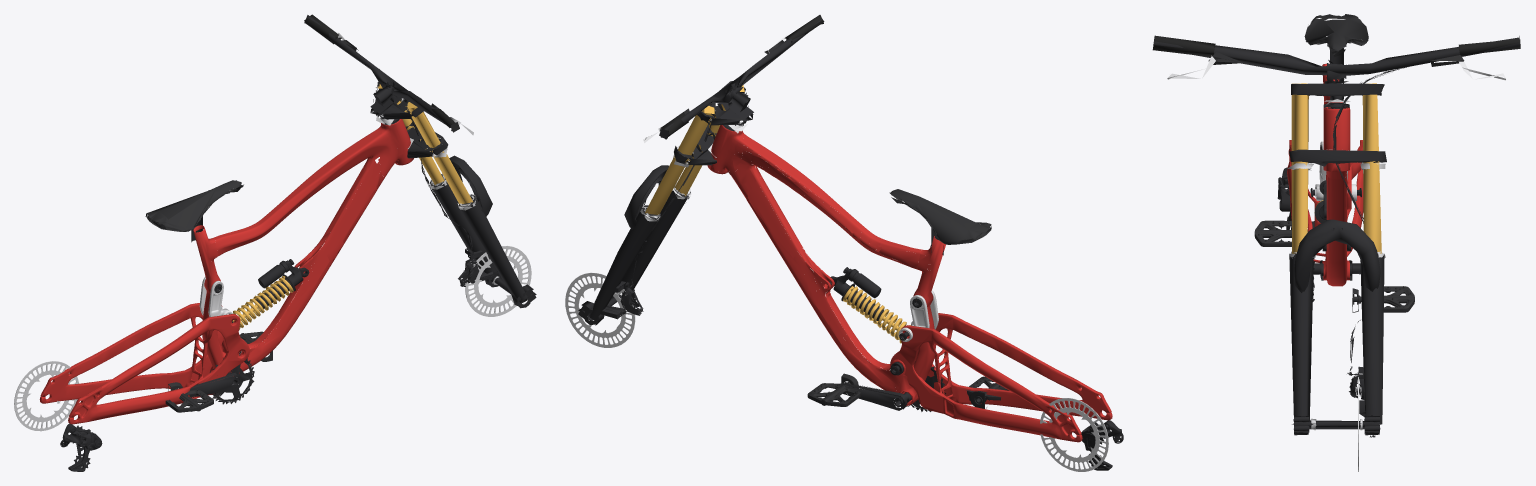
File: dhframe.glb
The picture shows the model from 3 angles, left to right: view 1: azimuth 30°, elevation 25°; view 2: azimuth 150°, elevation 25°; view 3: azimuth 270°, elevation 25°; orthographic projection. The views are drawn at different scales.
Visible parts, largest first — view 1: frame, seatstay, steer, fork_lower, crank, wheel_rear, wheel_front, shock_spring, shock_body; view 2: frame, seatstay, steer, fork_lower, crank, wheel_rear, wheel_front, shock_spring, shock_body; view 3: steer, fork_lower, frame, crank, seatstay.
Part boxes in pixels (box(x1,y1,x2,y2)): frame: box(145, 117, 413, 376); seatstay: box(39, 303, 249, 471); steer: box(304, 14, 473, 254); fork_lower: box(428, 155, 536, 308); crank: box(165, 331, 272, 412); wheel_rear: box(14, 361, 78, 431); wheel_front: box(465, 245, 531, 316); shock_spring: box(232, 276, 293, 330); shock_body: box(256, 259, 309, 308); frame: box(707, 122, 991, 406); seatstay: box(890, 313, 1123, 470); steer: box(633, 15, 824, 275); fork_lower: box(578, 165, 691, 325); crank: box(807, 361, 1008, 411); wheel_rear: box(1040, 398, 1108, 471); wheel_front: box(565, 272, 635, 347); shock_spring: box(843, 286, 910, 343); shock_body: box(828, 267, 883, 320); steer: box(1152, 35, 1520, 362); fork_lower: box(1289, 219, 1385, 437); frame: box(1304, 14, 1368, 286); crank: box(1254, 220, 1414, 312); seatstay: box(1277, 140, 1363, 262).
Size of the model in its own units: 1.58 by 0.916 by 0.7873.
